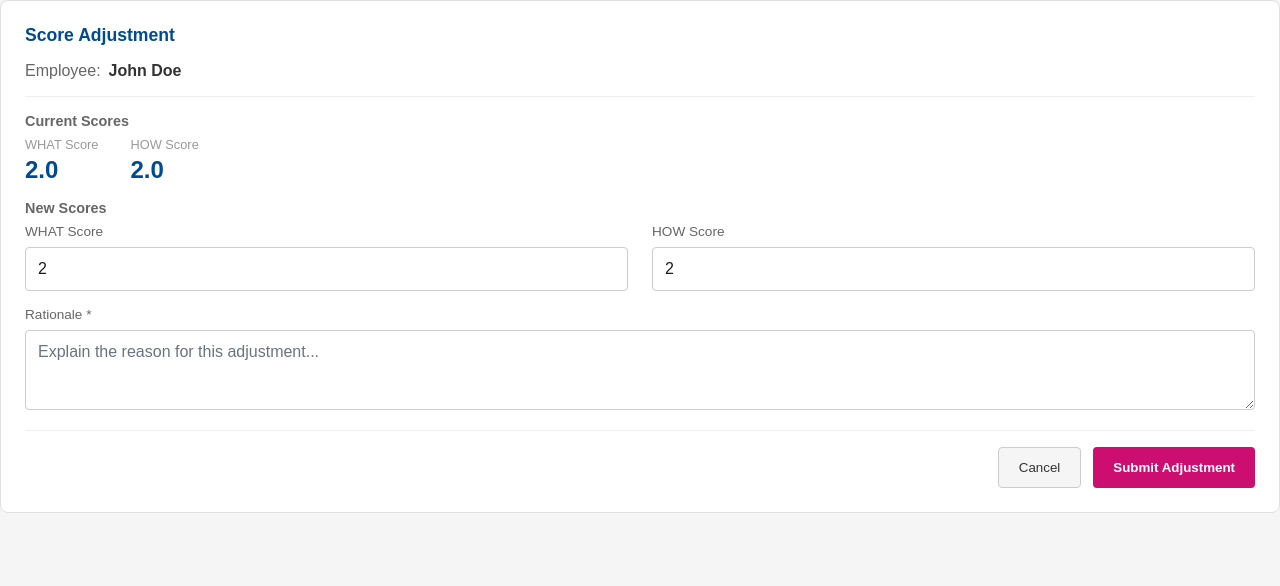
ScoreAdjustmentPanel › submission › should show success message after submission
Replace the text in the number field named "whatScore" with "2.5" at (326, 269), box x1=25 y1=247 x2=628 y2=291
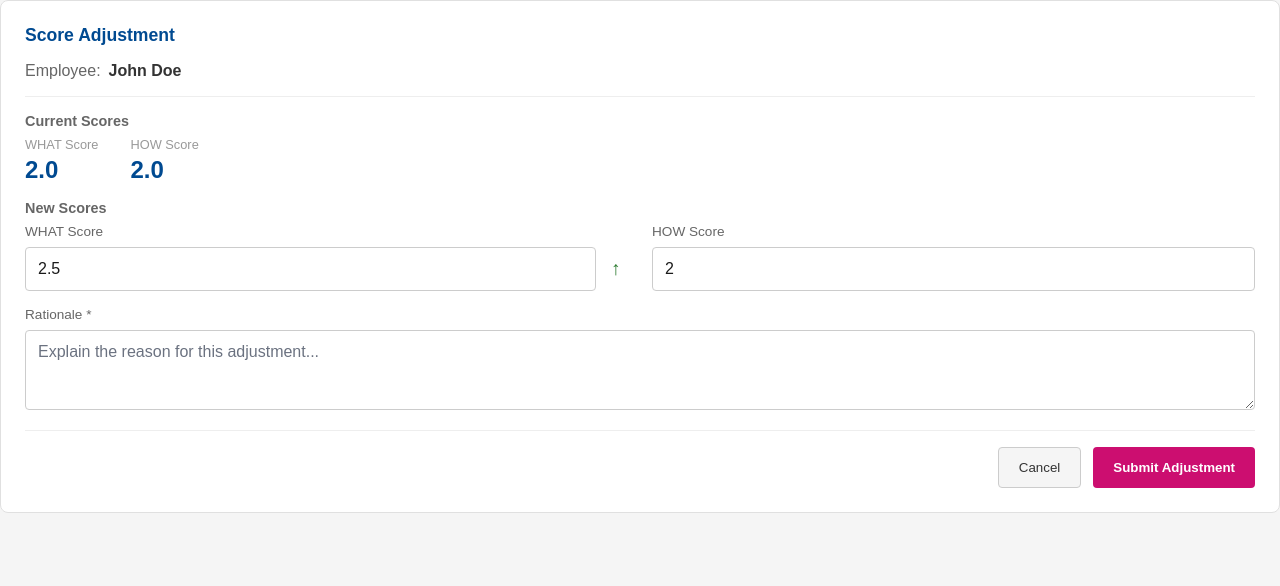
Type "Test" into the text box named "rationale" at (640, 370), box x1=25 y1=330 x2=1255 y2=410
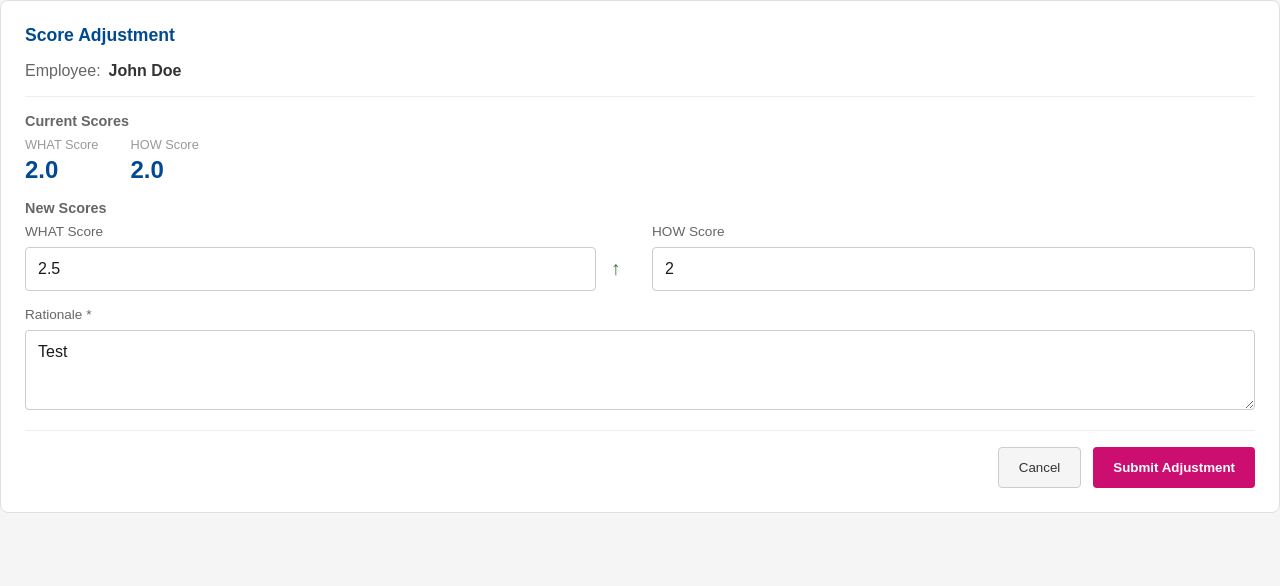
Submit the form, box x1=25 y1=200 x2=1255 y2=488
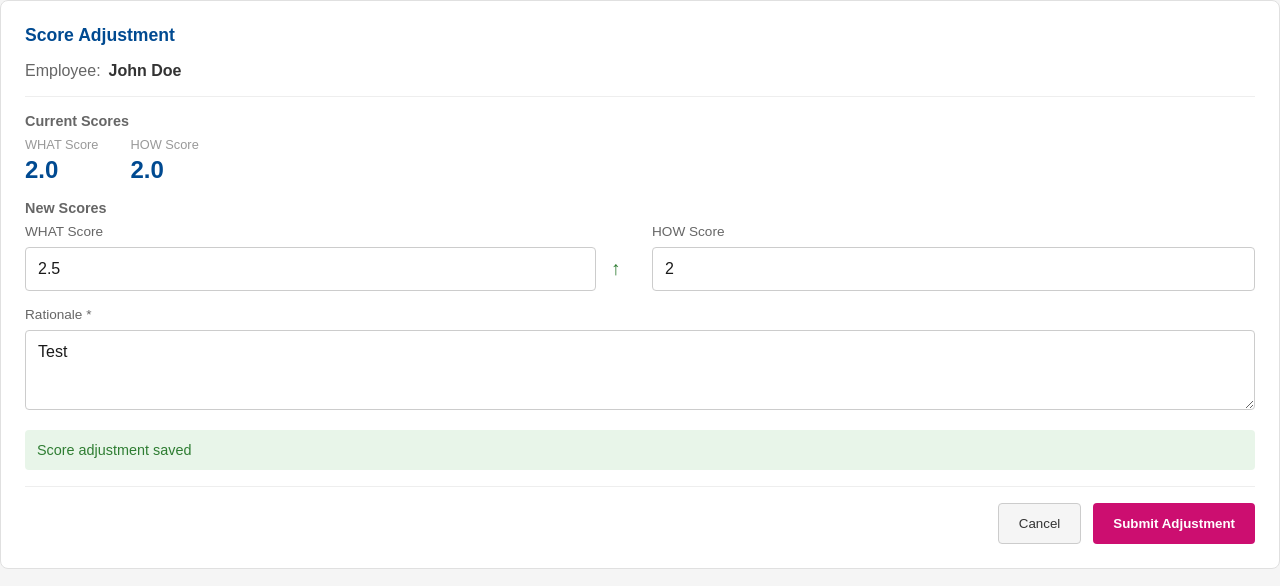
Expected: the text "Score adjustment saved" is shown, x1=25 y1=430 x2=1255 y2=470
